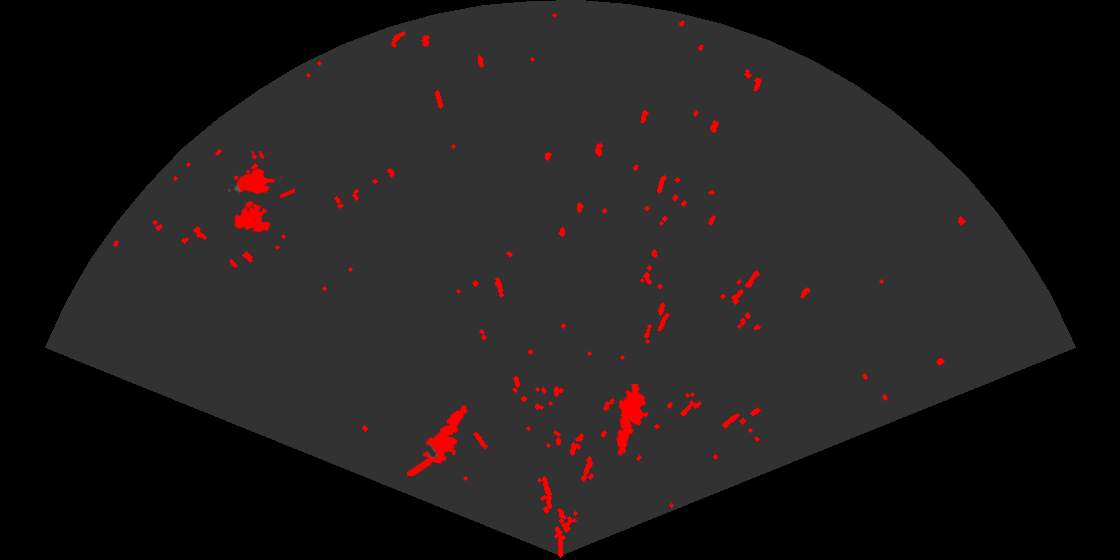cage: (227, 151, 295, 234)
frogman: (407, 403, 469, 476), (615, 384, 650, 458)
